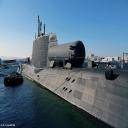submarine: (17, 13, 128, 128)
